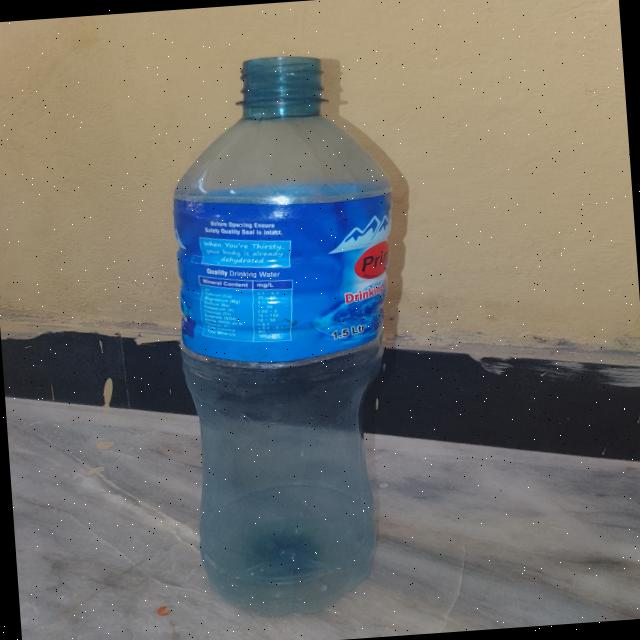bottle: (128, 31, 432, 626)
label: (166, 168, 398, 390)
